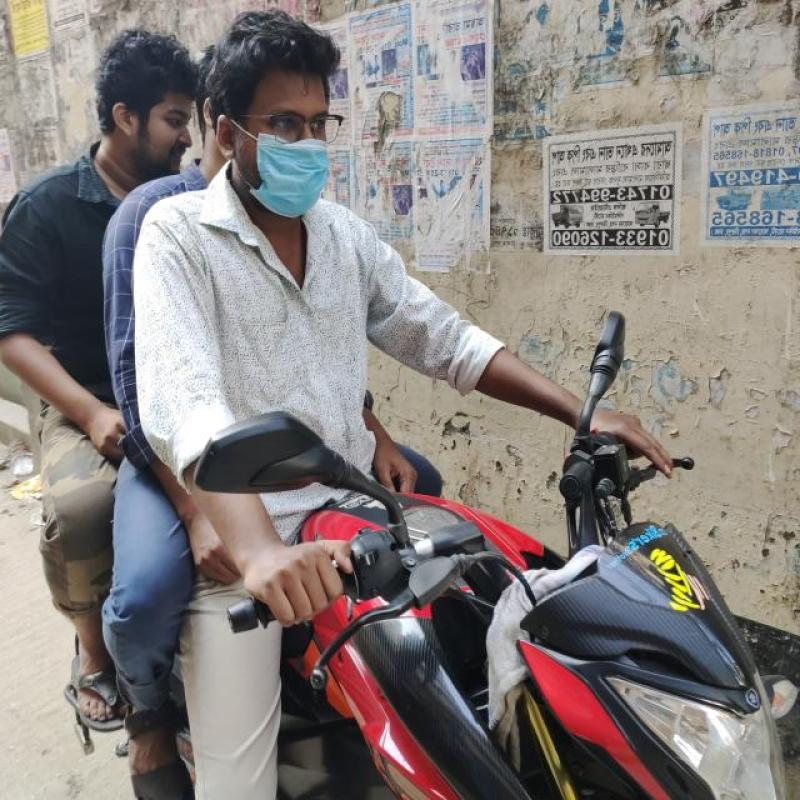nohelmet: (217, 0, 382, 238), (80, 23, 210, 212)
